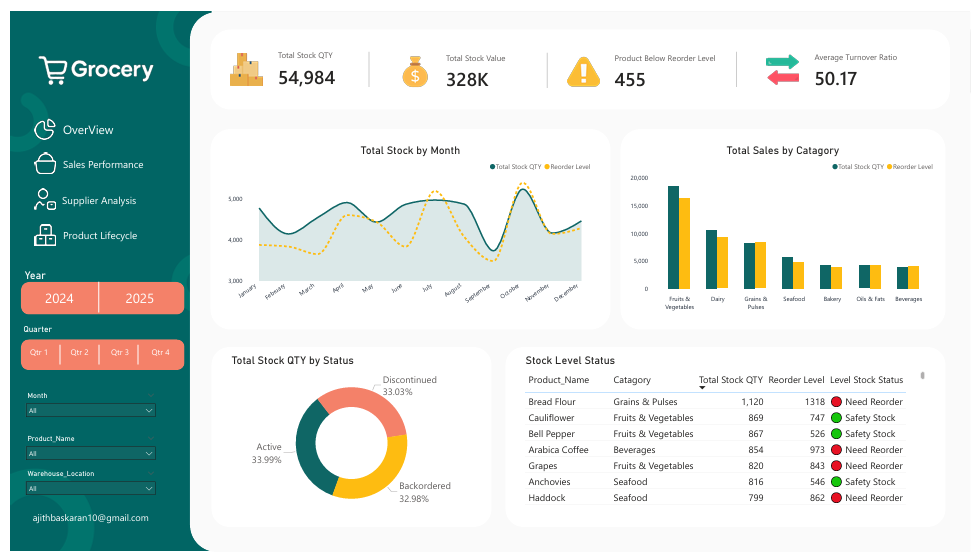

What the dashboard file says about the page in this screenshot:
{"tool":"powerbi","page":{"name":"Overview","canvas":[1920,1080],"ordinal":0},"visuals":[{"type":"shape","box":[357.8,0,1561.4,1080],"z":0},{"type":"cardVisual","fields":{"Data":["Key Measures.Total Stock QTY"]},"box":[505.3,45.5,210.4,138.8],"z":0,"group":"g1"},{"type":"cardVisual","fields":{"Data":["Key Measures.Average Turnover Ratio"]},"box":[1577.6,51.6,242.9,132.3],"z":0,"group":"g4"},{"type":"cardVisual","fields":{"Data":["Key Measures.Total Stock Value"]},"box":[841.5,54.2,210.4,130.1],"z":0,"group":"g3"},{"type":"cardVisual","fields":{"Data":["Key Measures.Product Below Reorder Level"]},"box":[1177.6,54.2,273.3,130.1],"z":0,"group":"g2"},{"type":"image","box":[440.2,82.4,65.1,65.1],"z":1000,"group":"g1"},{"type":"image","box":[1511.6,82.4,65.1,65.1],"z":1000,"group":"g4"},{"type":"image","box":[776.4,86.7,65.1,65.1],"z":1000,"group":"g3"},{"type":"image","box":[1112.5,86.7,65.1,65.1],"z":1000,"group":"g2"},{"type":"shape","box":[399,34.7,1479,160.5],"z":2000},{"type":"group","id":"g1","title":"Group 1","box":[440.2,45.5,275.4,138.8],"z":4000},{"type":"group","id":"g2","title":"Group 3","box":[1112.5,54.2,338.3,130.1],"z":5000},{"type":"group","id":"g3","title":"Group 2","box":[776.4,54.2,275.4,130.1],"z":6000},{"type":"group","id":"g4","title":"Group 4","box":[1511.6,51.6,308.9,132.3],"z":7000},{"type":"shape","box":[676.6,80.2,78.1,69.4],"z":8000},{"type":"shape","box":[1411.8,80.2,78.1,69.4],"z":9000},{"type":"shape","box":[1032.3,82.4,80.2,69.4],"z":10000},{"type":"shape","box":[399,234.2,800.2,401.2],"z":11000},{"type":"lineChart","title":"Total Stock by Month","fields":{"Category":["Grocery_Inventory.Date_Received.Variation.Date Hierarchy.Month"],"Y":["Key Measures.Total Stock QTY","Key Measures.Reorder Level"]},"box":[429.4,264.6,739.5,340.5],"z":12000},{"type":"shape","box":[1218.8,234.2,650.6,401.2],"z":13000},{"type":"clusteredColumnChart","title":"Total Sales by Catagory","fields":{"Category":["Grocery_Inventory.Catagory"],"Y":["Key Measures.Total Stock QTY","Key Measures.Reorder Level"]},"box":[1234,264.6,620.2,340.5],"z":14000},{"type":"shape","box":[401.2,670.1,559.5,360],"z":15000},{"type":"donutChart","fields":{"Category":["Grocery_Inventory.Status"],"Y":["Key Measures.Total Stock QTY"]},"box":[435.9,685.3,490.1,329.6],"z":16000},{"type":"shape","box":[988.9,670.1,880.5,360],"z":17000},{"type":"tableEx","title":"Stock Level Status","fields":{"Values":["Grocery_Inventory.Product_Name","Grocery_Inventory.Catagory","Key Measures.Total Stock QTY","Key Measures.Reorder Level","Key Measures.Level Stock Status"]},"box":[1023.6,685.3,808.9,310.1],"z":18000},{"type":"image","box":[19.5,17.3,299.3,199.5],"z":19000},{"type":"image","box":[34.7,212.5,67.2,43.4],"z":20000},{"type":"image","box":[47.7,281.9,43.4,43.4],"z":21000},{"type":"image","box":[47.7,351.3,43.4,45.5],"z":22000},{"type":"image","box":[47.7,425.1,43.4,43.4],"z":23000},{"type":"shape","box":[19.5,654.9,327.5,60.7],"z":24000},{"type":"advancedSlicerVisual","fields":{"Values":["Grocery_Inventory.Date_Received.Variation.Date Hierarchy.Quarter"]},"box":[19.5,624.6,327.5,91.1],"z":25000},{"type":"shape","box":[58.6,665.8,78.1,39],"z":26000},{"type":"shape","box":[136.6,665.8,78.1,39],"z":27000},{"type":"shape","box":[214.7,665.8,78.1,39],"z":28000},{"type":"slicer","fields":{"Values":["Grocery_Inventory.Date_Received.Variation.Date Hierarchy.Month"]},"box":[19.5,754.7,279.8,69.4],"z":29000},{"type":"slicer","fields":{"Values":["Grocery_Inventory.Product_Name"]},"box":[19.5,841.4,279.8,69.4],"z":30000},{"type":"textbox","box":[8.7,993.3,301.4,43.4],"z":31000},{"type":"slicer","fields":{"Values":["Grocery_Inventory.Warehouse_Location"]},"box":[19.5,910.8,279.8,69.4],"z":32000},{"type":"shape","box":[104.1,201.7,214.7,65.1],"z":33000},{"type":"shape","box":[104.1,271.1,214.7,65.1],"z":34000},{"type":"shape","box":[101.9,342.7,214.7,65.1],"z":35000},{"type":"shape","box":[104.1,414.2,214.7,65.1],"z":37000},{"type":"advancedSlicerVisual","fields":{"Values":["Grocery_Inventory.Date_Received.Variation.Date Hierarchy.Year"]},"box":[21.7,514,325.3,91.1],"z":37000,"group":"g5"},{"type":"shape","box":[19.5,540,327.5,65.1],"z":37001},{"type":"group","id":"g5","title":"Group 5","box":[21.7,514,325.3,91.1],"z":37002},{"type":"shape","box":[135.2,540.1,80.2,60.7],"z":38000,"group":"g5"}]}

Visuals, with their boxes in screenshot pixels (x1, y1, x2, y2), scaled from the page's 1920x1080 canvas onto the 975x559 screenshot:
shape: (182, 0, 974, 558)
cardVisual - Key Measures.Total Stock QTY: (257, 24, 363, 95)
cardVisual - Key Measures.Average Turnover Ratio: (801, 27, 924, 95)
cardVisual - Key Measures.Total Stock Value: (427, 28, 534, 95)
cardVisual - Key Measures.Product Below Reorder Level: (598, 28, 737, 95)
image: (224, 43, 257, 76)
image: (768, 43, 801, 76)
image: (394, 45, 427, 79)
image: (565, 45, 598, 79)
shape: (203, 18, 954, 101)
"Group 1" group: (224, 24, 363, 95)
"Group 3" group: (565, 28, 737, 95)
"Group 2" group: (394, 28, 534, 95)
"Group 4" group: (768, 27, 924, 95)
shape: (344, 42, 383, 77)
shape: (717, 42, 757, 77)
shape: (524, 43, 565, 79)
shape: (203, 121, 609, 329)
"Total Stock by Month" lineChart: (218, 137, 594, 313)
shape: (619, 121, 949, 329)
"Total Sales by Catagory" clusteredColumnChart: (627, 137, 942, 313)
shape: (204, 347, 488, 533)
donutChart - Grocery_Inventory.Status x Key Measures.Total Stock QTY: (221, 355, 470, 525)
shape: (502, 347, 949, 533)
"Stock Level Status" tableEx: (520, 355, 931, 515)
image: (10, 9, 162, 112)
image: (18, 110, 52, 132)
image: (24, 146, 46, 168)
image: (24, 182, 46, 205)
image: (24, 220, 46, 242)
shape: (10, 339, 176, 370)
advancedSlicerVisual - Grocery_Inventory.Date_Received.Variation.Date Hierarchy.Quarter: (10, 323, 176, 370)
shape: (30, 345, 69, 365)
shape: (69, 345, 109, 365)
shape: (109, 345, 149, 365)
slicer - Grocery_Inventory.Date_Received.Variation.Date Hierarchy.Month: (10, 391, 152, 427)
slicer - Grocery_Inventory.Product_Name: (10, 436, 152, 471)
textbox: (4, 514, 157, 537)
slicer - Grocery_Inventory.Warehouse_Location: (10, 471, 152, 507)
shape: (53, 104, 162, 138)
shape: (53, 140, 162, 174)
shape: (52, 177, 161, 211)
shape: (53, 214, 162, 248)
advancedSlicerVisual - Grocery_Inventory.Date_Received.Variation.Date Hierarchy.Year: (11, 266, 176, 313)
shape: (10, 280, 176, 313)
"Group 5" group: (11, 266, 176, 313)
shape: (69, 280, 109, 311)
